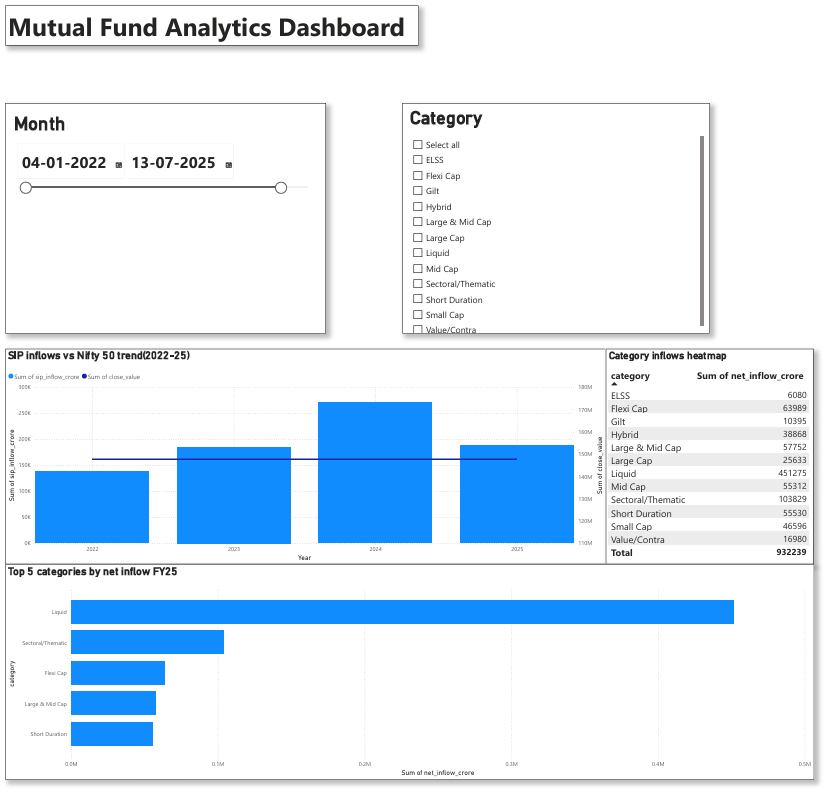

This screenshot's page, from the dashboard's own definition file:
{"tool":"powerbi","page":{"name":"SIP&Market Trends","canvas":[3840,2160],"ordinal":3},"visuals":[{"type":"lineStackedColumnComboChart","title":"SIP inflows vs Nifty 50 trend(2022-25)","fields":{"Category":["04_monthly_sip_inflows.month.Variation.Date Hierarchy.Year","04_monthly_sip_inflows.month.Variation.Date Hierarchy.Quarter","04_monthly_sip_inflows.month.Variation.Date Hierarchy.Month","04_monthly_sip_inflows.month.Variation.Date Hierarchy.Day"],"Y":["Sum(04_monthly_sip_inflows.sip_inflow_crore)"],"Y2":["Sum(10_benchmark_indices.close_value)"]},"box":[0,753.3,1282.5,460],"z":0},{"type":"pivotTable","title":"Category inflows heatmap","fields":{"Rows":["05_category_inflows.category"],"Values":["Sum(05_category_inflows.net_inflow_crore)"]},"box":[1283.3,753.3,444,460],"z":1000},{"type":"clusteredBarChart","title":"Top 5 categories by net inflow FY25","fields":{"Category":["05_category_inflows.category"],"Y":["Sum(05_category_inflows.net_inflow_crore)"]},"box":[0,1213.3,1728,460],"z":2000},{"type":"textbox","box":[0,20,882.5,85],"z":3000},{"type":"slicer","title":"Month","fields":{"Values":["04_monthly_sip_inflows.month"]},"box":[0,227.5,685,492.5],"z":3001},{"type":"slicer","title":"Category","fields":{"Values":["05_category_inflows.category"]},"box":[847.5,227.5,657.5,492.5],"z":3002}]}

Visuals, with their boxes on the page's 3840x2160 design canvas (x1, y1, x2, y2). These are canvas units, not pixel positions in the 826x789 screenshot, which may show the page scaled, cropped or inside an application window:
"SIP inflows vs Nifty 50 trend(2022-25)" lineStackedColumnComboChart: BBox(0, 753, 1282, 1213)
"Category inflows heatmap" pivotTable: BBox(1283, 753, 1727, 1213)
"Top 5 categories by net inflow FY25" clusteredBarChart: BBox(0, 1213, 1728, 1673)
textbox: BBox(0, 20, 882, 105)
"Month" slicer: BBox(0, 228, 685, 720)
"Category" slicer: BBox(848, 228, 1505, 720)
